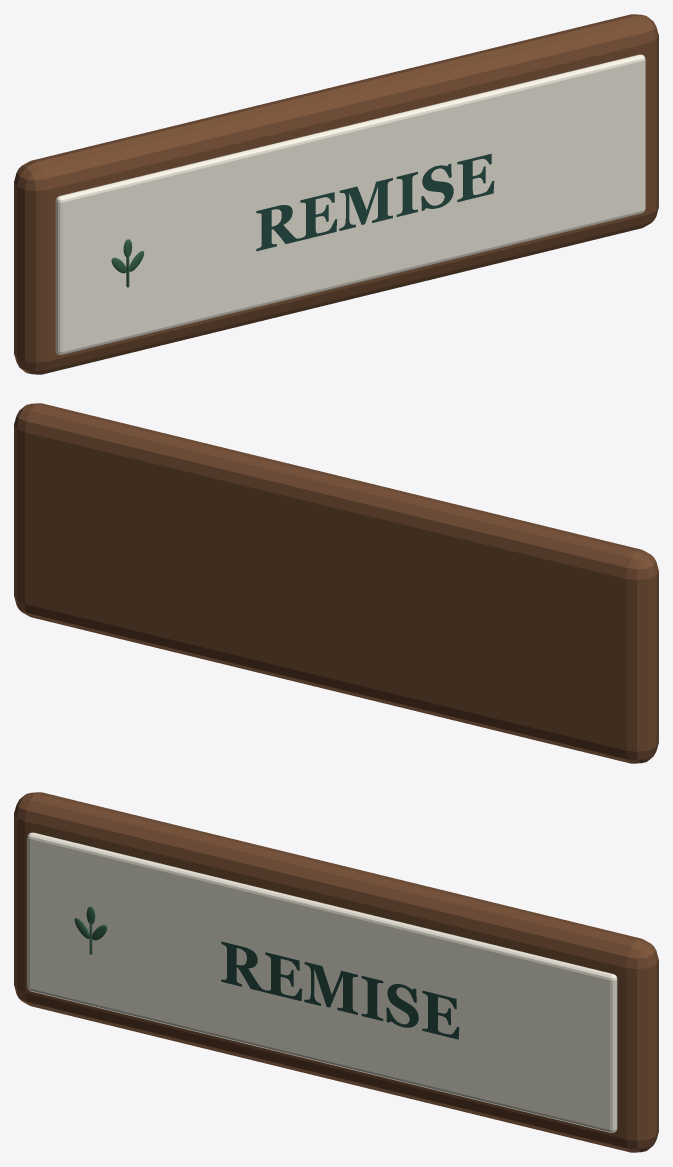
File: sign_shed.glb
3 views of the same model, one above another, from view 1: azimuth 30°, elevation 25°; view 2: azimuth 150°, elevation 25°; view 3: azimuth 330°, elevation 25° (orthographic).
Visible parts, largest first — view 1: Ivory_inset, Carved_timber, Flat_direction; view 2: Carved_timber; view 3: Ivory_inset, Carved_timber, Flat_direction.
Boxes of the visible parts, <box> form: Ivory_inset: <box>55,54,645,354</box>; Carved_timber: <box>14,14,658,374</box>; Flat_direction: <box>256,153,494,251</box>; Carved_timber: <box>14,403,658,763</box>; Ivory_inset: <box>27,832,617,1132</box>; Carved_timber: <box>14,792,658,1152</box>; Flat_direction: <box>221,941,459,1039</box>.
Bounding box in the file's own units: 0.76 × 0.24 × 0.062.
